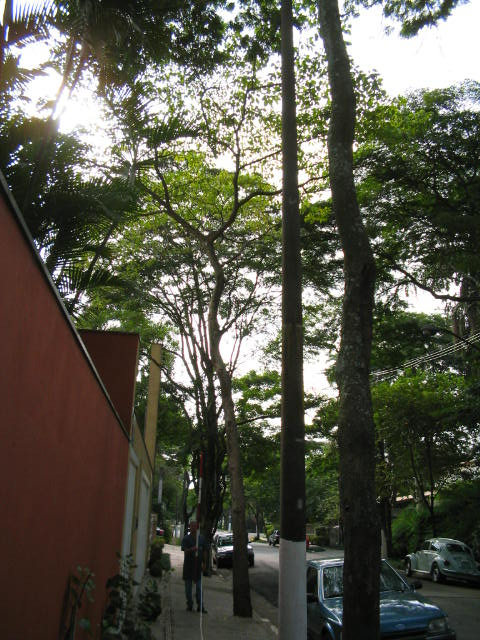stem: (224, 417, 258, 619)
stick: (187, 451, 214, 613)
tree: (94, 41, 435, 619)
